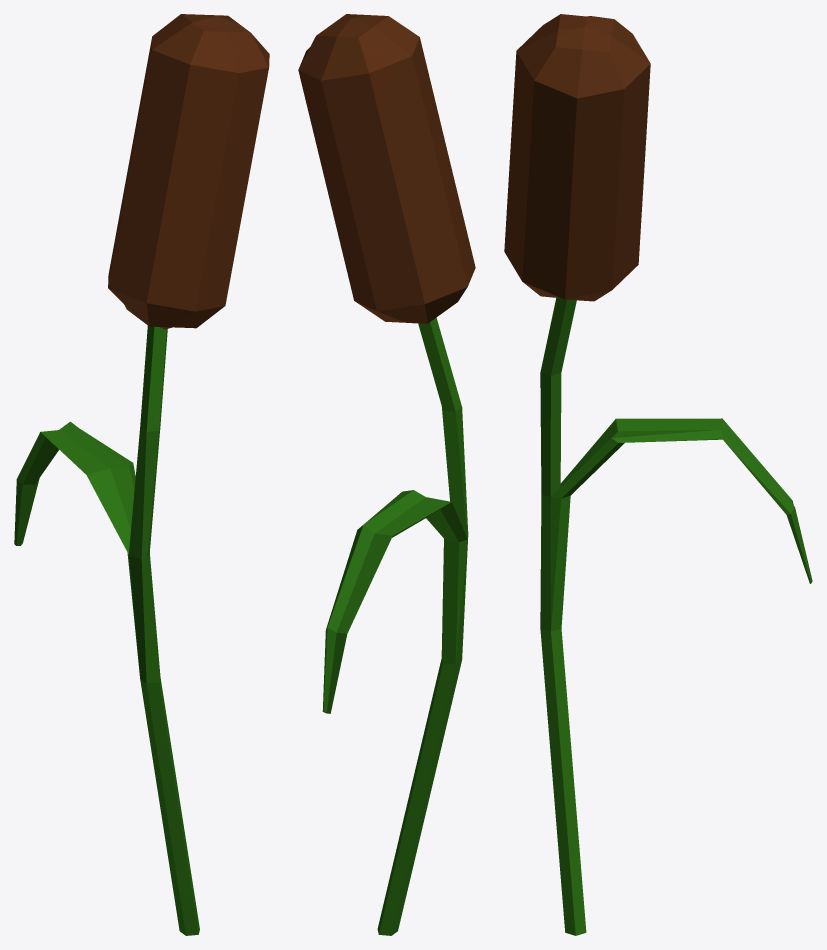
File: prop.glb
3 renders of one model, left to right at view 1: azimuth 30°, elevation 25°; view 2: azimuth 150°, elevation 25°; view 3: azimuth 270°, elevation 25°, orthographic.
Parts seen in each view (by area): view 1: Reed_3; view 2: Reed_3; view 3: Reed_3.
Part boxes in pixels (bbox=[...]): Reed_3: bbox=[14, 14, 269, 935]; Reed_3: bbox=[298, 14, 475, 935]; Reed_3: bbox=[504, 14, 812, 935].
Size of the model in its own units: 0.4548 by 2.4 by 0.7274.
Materials: 1 (1 with a texture image).
